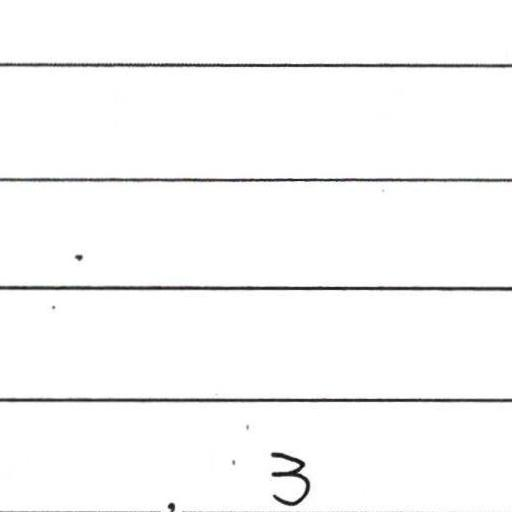ans: (264, 448, 315, 511)
